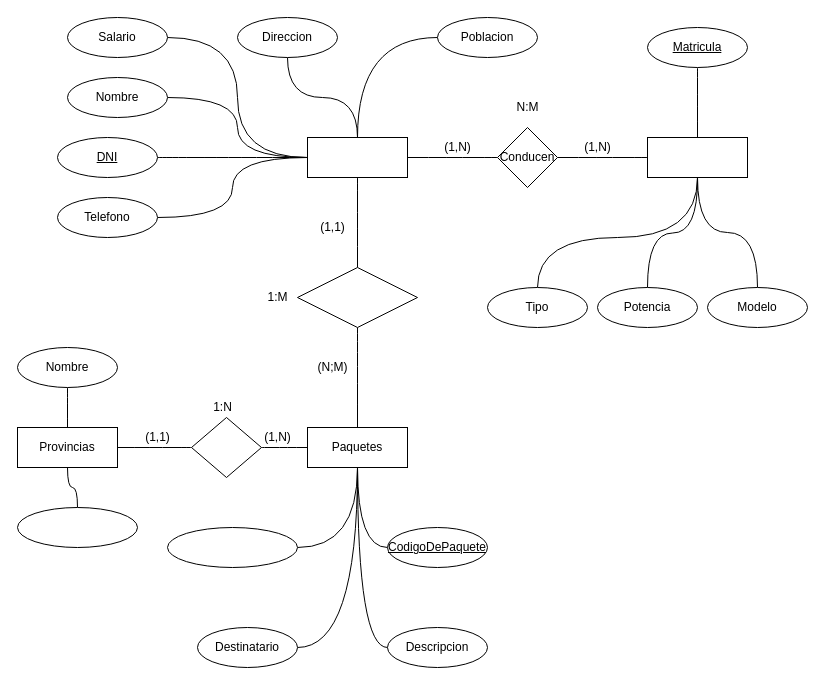
This 825x685 diagram has some shape labels left out. Each missing label, with the box of its shape:
Camioneros: (306, 136, 408, 178)
Camiones: (646, 136, 748, 178)
CodigoDeProvincia: (16, 506, 138, 548)
DireccionDestinatario: (166, 526, 298, 568)
LLegan: (190, 416, 262, 478)
Reparten: (296, 266, 418, 328)
